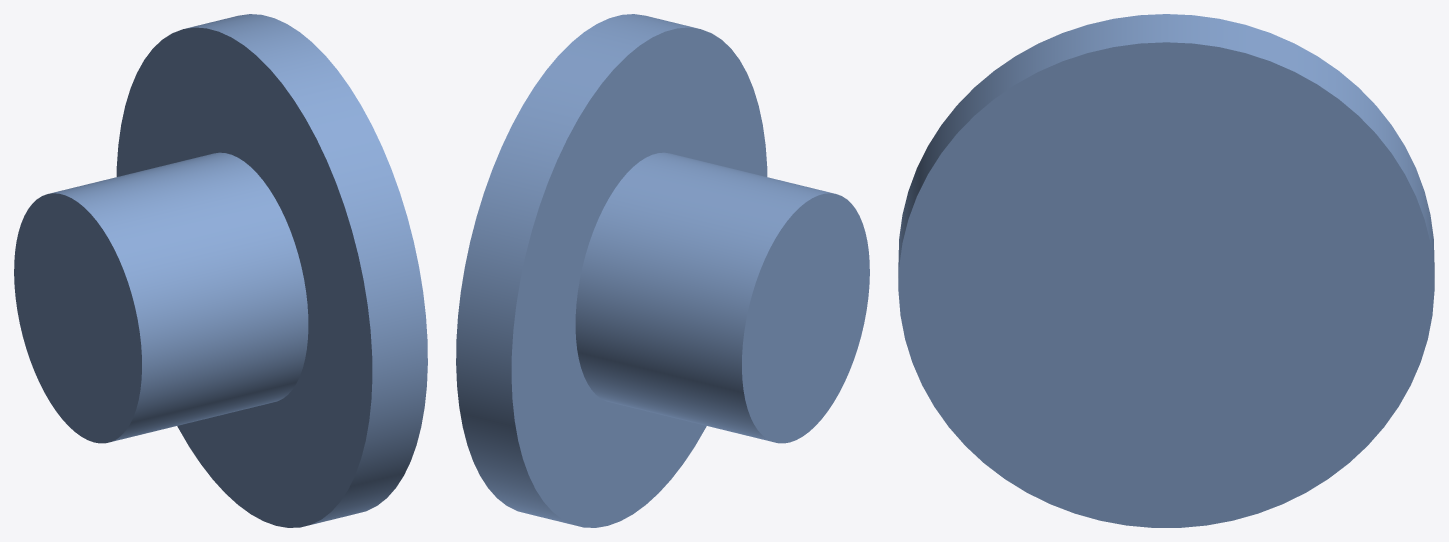
The model's file is step_01.glb.
3 views of the same model, side by side, from view 1: azimuth 30°, elevation 25°; view 2: azimuth 150°, elevation 25°; view 3: azimuth 270°, elevation 25° (orthographic). The views are drawn at different scales.
Parts seen in each view (by area): view 1: part__flange A (spigot); view 2: part__flange A (spigot); view 3: part__flange A (spigot).
Boxes of the visible parts, x1=… form: part__flange A (spigot): x1=14, y1=14, x2=427, y2=527; part__flange A (spigot): x1=456, y1=14, x2=869, y2=527; part__flange A (spigot): x1=898, y1=14, x2=1434, y2=527.
Size of the model in its own units: 80 by 160 by 160.
